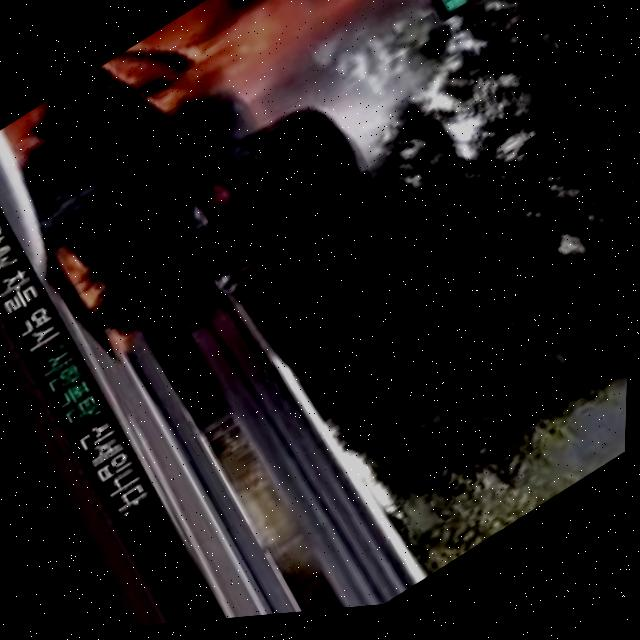Fire: (120, 0, 337, 141), (0, 100, 74, 182)
Smoke: (295, 0, 441, 63)
